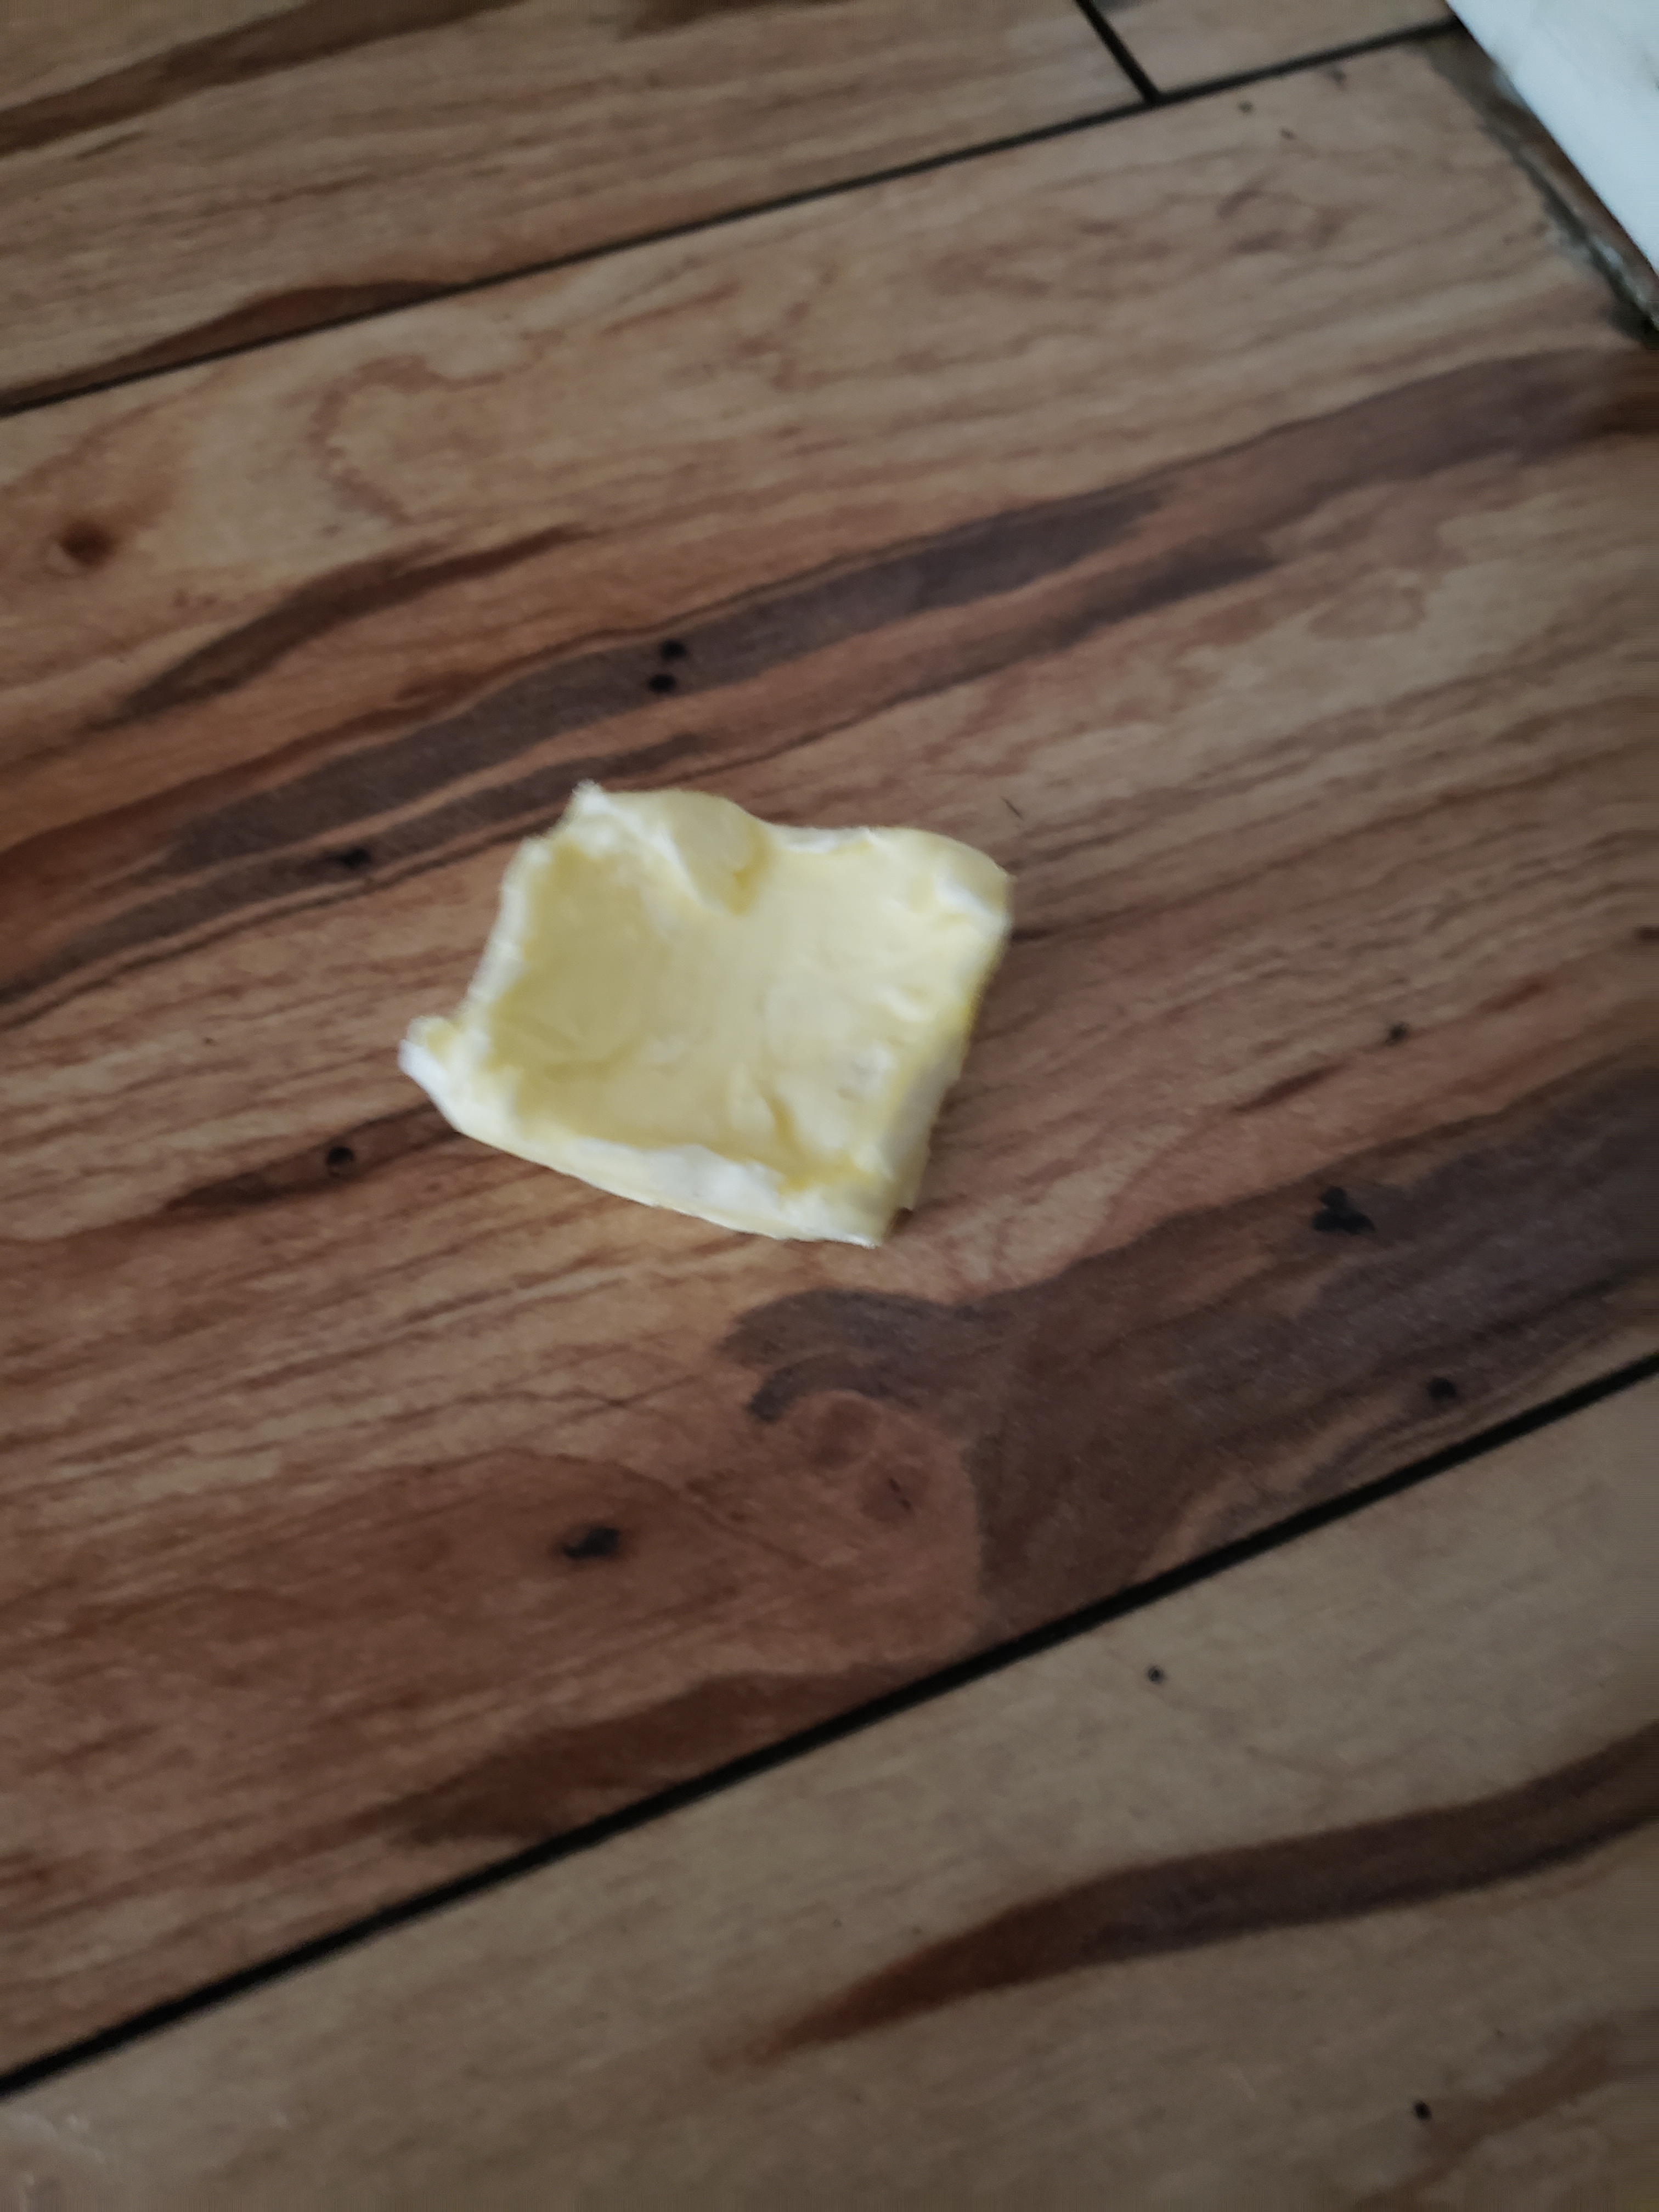Butter: (403, 784, 1004, 1244)
